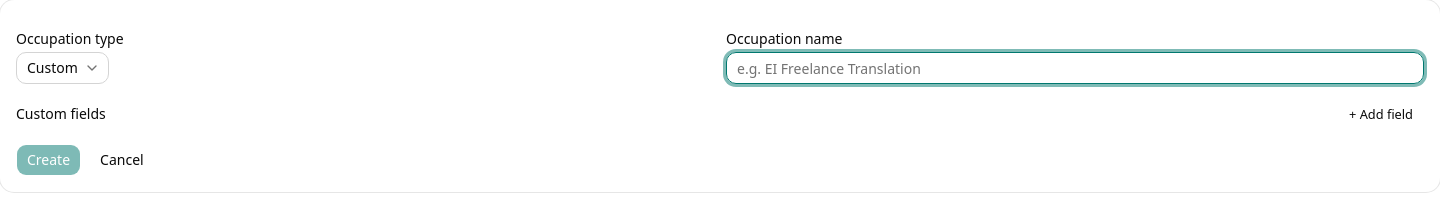
CreateOccupationForm › disables Create until a name is entered
The image size is (1440, 210).
Expected: the button "Create" is disabled, left=16, top=144, right=81, bottom=176
In the field labelled "Occupation name": (1075, 68) left=726, top=52, right=1424, bottom=84, type "My occupation"
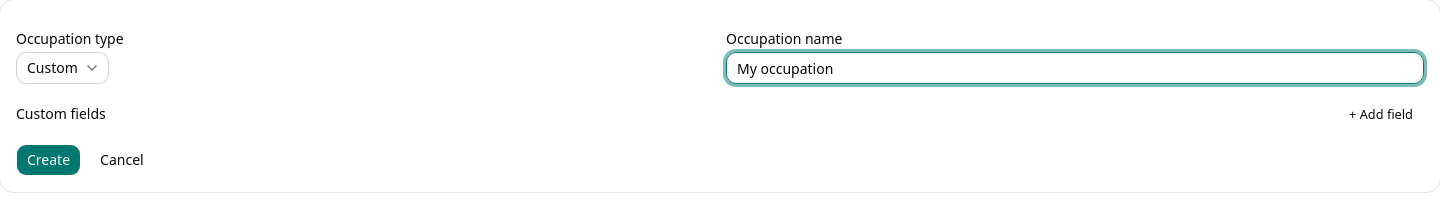
Result: the button "Create" is enabled at left=16, top=144, right=81, bottom=176
